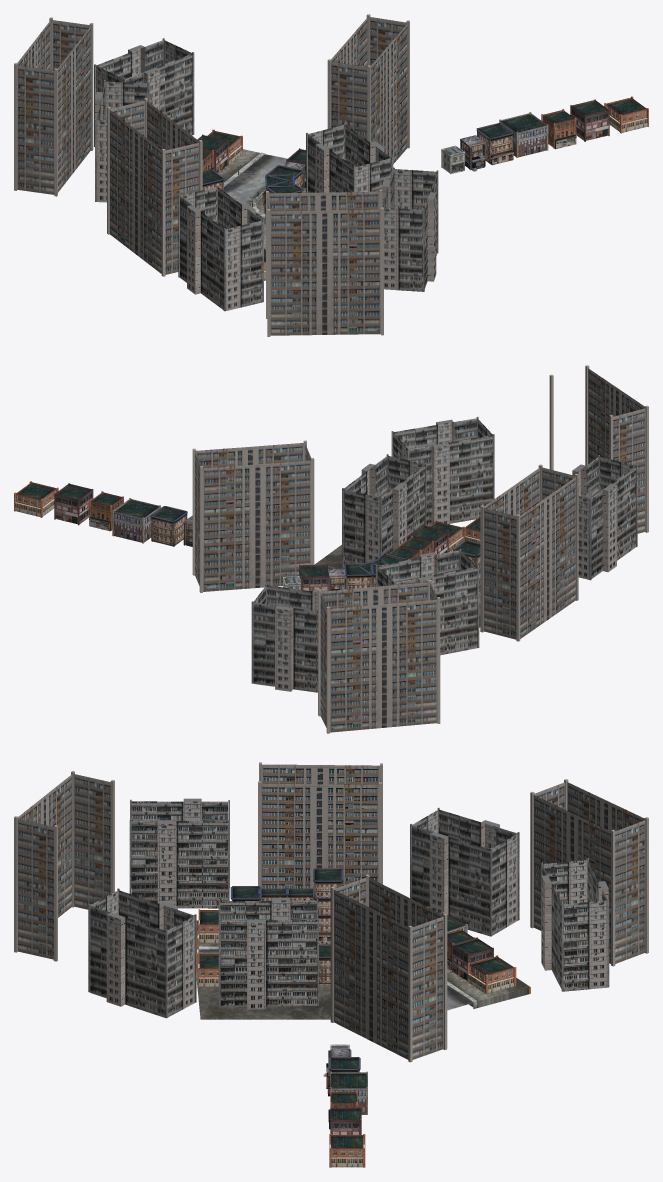
Rendered from street.glb.
The picture shows the model from 3 angles, top to bottom: view 1: azimuth 30°, elevation 25°; view 2: azimuth 150°, elevation 25°; view 3: azimuth 270°, elevation 25°; orthographic projection. The views are drawn at different scales.
Parts seen in each view (by area): view 1: Plane.030, Plane.027, Plane.029, Plane.028, Cube.016, Cube.019, Cube.013, Cube.014, Cube.012, Plane, Cube.002, Cube.001 (+9 smaller); view 2: Plane.029, Plane.028, Plane.027, Cube.019, Cube.014, Cube.013, Cube.016, Plane.030, Cube.012, Cube.002, Cube.001, Plane.001 (+5 smaller); view 3: Plane.028, Plane.027, Plane.030, Plane.029, Cube.019, Cube.012, Cube.014, Cube.016, Cube.013, Plane.007, Cube.006, Plane.006 (+8 smaller).
Part boxes in pixels (<box>): Plane.030: <box>266,189,383,336</box>; Plane.027: <box>107,98,202,276</box>; Plane.029: <box>14,17,93,196</box>; Plane.028: <box>327,14,409,163</box>; Cube.016: <box>178,185,263,311</box>; Cube.019: <box>382,167,438,291</box>; Cube.013: <box>94,38,194,146</box>; Cube.014: <box>306,123,393,192</box>; Cube.012: <box>95,80,149,202</box>; Plane: <box>224,154,287,249</box>; Cube.002: <box>499,112,548,157</box>; Cube.001: <box>570,99,609,141</box>; Plane.029: <box>318,579,440,733</box>; Plane.028: <box>192,440,314,592</box>; Plane.027: <box>480,464,578,641</box>; Cube.019: <box>391,416,494,526</box>; Cube.014: <box>342,454,426,568</box>; Cube.013: <box>251,584,327,692</box>; Cube.016: <box>572,455,637,580</box>; Plane.030: <box>549,365,648,533</box>; Cube.012: <box>375,549,479,655</box>; Cube.002: <box>112,498,160,543</box>; Cube.001: <box>54,483,93,525</box>; Plane.001: <box>151,506,187,546</box>; Plane.028: <box>330,874,447,1062</box>; Plane.027: <box>258,762,382,888</box>; Plane.030: <box>14,771,114,961</box>; Plane.029: <box>530,779,648,966</box>; Cube.019: <box>88,888,196,1018</box>; Cube.012: <box>410,807,519,936</box>; Cube.014: <box>218,898,318,1009</box>; Cube.016: <box>129,798,229,908</box>; Cube.013: <box>541,858,609,991</box>; Plane.007: <box>196,972,330,1019</box>; Cube.006: <box>467,955,516,994</box>; Plane.006: <box>196,920,530,1008</box>.
Size of the model in its own units: 53.72 by 14.18 by 52.9.
Materials: 12 (11 with a texture image).
